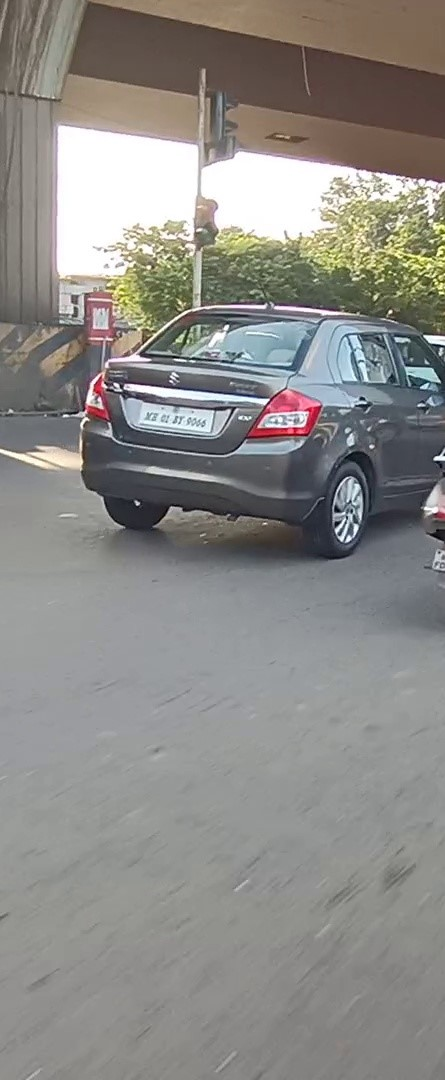MH01BT9066: (138, 401, 215, 435)
